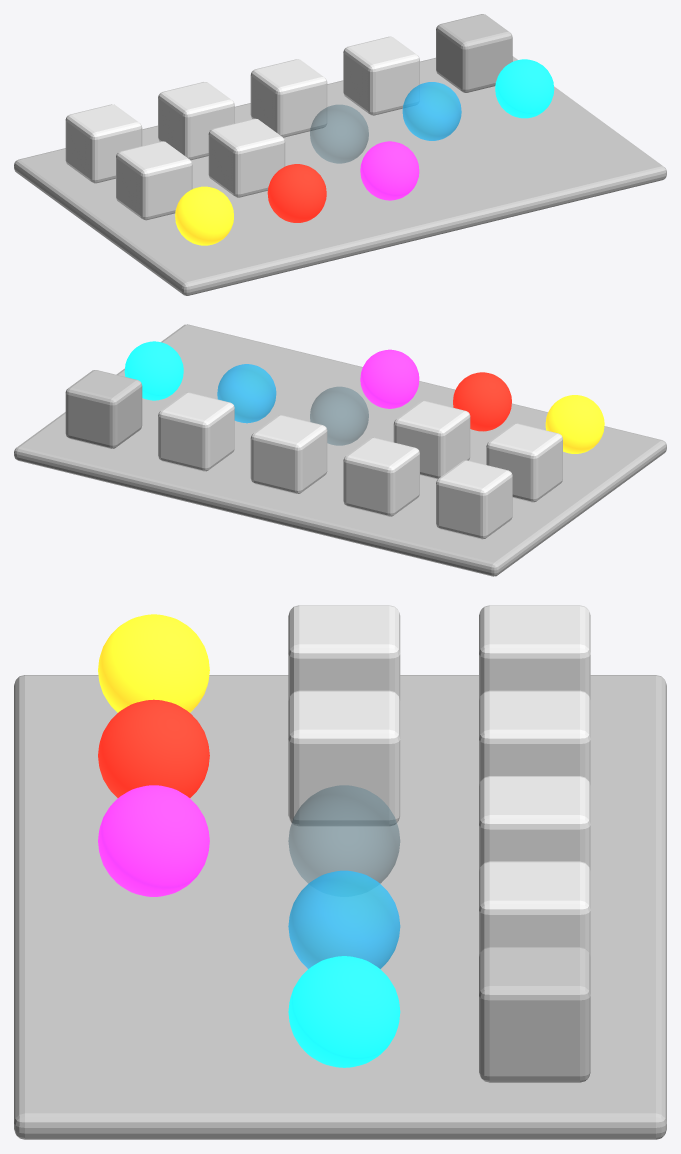
Rendered from Material_Texture_Library.glb.
3 views of the same model, one above another, from view 1: azimuth 30°, elevation 25°; view 2: azimuth 150°, elevation 25°; view 3: azimuth 270°, elevation 25° (orthographic). The views are drawn at different scales.
Parts seen in each view (by area): view 1: Material_Library_Display, SWATCH_MAT_Rusted_Metal, SWATCH_MAT_Metal, SWATCH_MAT_Plant, SWATCH_MAT_Floor, SWATCH_MAT_Moss, SWATCH_MAT_Stone, SWATCH_MAT_Ancient_Stone, SWATCH_MAT_Emissive_Purple, SWATCH_MAT_Emissive_Yellow, SWATCH_MAT_Water, SWATCH_MAT_Emissive_Cyan (+2 smaller); view 2: Material_Library_Display, SWATCH_MAT_Floor, SWATCH_MAT_Metal, SWATCH_MAT_Ancient_Stone, SWATCH_MAT_Rusted_Metal, SWATCH_MAT_Stone, SWATCH_MAT_Moss, SWATCH_MAT_Plant, SWATCH_MAT_Emissive_Purple, SWATCH_MAT_Emissive_Cyan, SWATCH_MAT_Emissive_Red, SWATCH_MAT_Water (+2 smaller); view 3: Material_Library_Display, SWATCH_MAT_Plant, SWATCH_MAT_Floor, SWATCH_MAT_Emissive_Cyan, SWATCH_MAT_Emissive_Purple, SWATCH_MAT_Moss, SWATCH_MAT_Ancient_Stone, SWATCH_MAT_Rusted_Metal, SWATCH_MAT_Stone, SWATCH_MAT_Metal, SWATCH_MAT_Water, SWATCH_MAT_Emissive_Red (+2 smaller).
Boxes of the visible parts, x1,y1,x2,y2 form: Material_Library_Display: [14, 56, 666, 295]; SWATCH_MAT_Rusted_Metal: [343, 36, 419, 115]; SWATCH_MAT_Metal: [250, 59, 327, 137]; SWATCH_MAT_Plant: [208, 118, 285, 197]; SWATCH_MAT_Floor: [436, 14, 512, 92]; SWATCH_MAT_Moss: [116, 141, 192, 220]; SWATCH_MAT_Stone: [65, 104, 142, 183]; SWATCH_MAT_Ancient_Stone: [158, 82, 234, 160]; SWATCH_MAT_Emissive_Purple: [360, 141, 419, 200]; SWATCH_MAT_Emissive_Yellow: [175, 186, 233, 245]; SWATCH_MAT_Water: [402, 82, 461, 140]; SWATCH_MAT_Emissive_Cyan: [495, 59, 554, 118]; Material_Library_Display: [14, 324, 666, 576]; SWATCH_MAT_Floor: [65, 370, 142, 448]; SWATCH_MAT_Metal: [250, 415, 327, 493]; SWATCH_MAT_Ancient_Stone: [343, 437, 419, 516]; SWATCH_MAT_Rusted_Metal: [158, 392, 234, 471]; SWATCH_MAT_Stone: [436, 460, 512, 539]; SWATCH_MAT_Moss: [486, 423, 562, 502]; SWATCH_MAT_Plant: [393, 401, 470, 479]; SWATCH_MAT_Emissive_Purple: [360, 349, 419, 408]; SWATCH_MAT_Emissive_Cyan: [124, 341, 183, 400]; SWATCH_MAT_Emissive_Red: [453, 372, 511, 431]; SWATCH_MAT_Water: [217, 364, 276, 423]; Material_Library_Display: [14, 675, 666, 1139]; SWATCH_MAT_Plant: [288, 690, 400, 826]; SWATCH_MAT_Floor: [479, 947, 590, 1082]; SWATCH_MAT_Emissive_Cyan: [288, 956, 400, 1067]; SWATCH_MAT_Emissive_Purple: [98, 785, 209, 896]; SWATCH_MAT_Moss: [288, 605, 400, 700]; SWATCH_MAT_Ancient_Stone: [479, 690, 590, 785]; SWATCH_MAT_Rusted_Metal: [479, 861, 590, 956]; SWATCH_MAT_Stone: [479, 605, 590, 699]; SWATCH_MAT_Metal: [479, 776, 590, 870]; SWATCH_MAT_Water: [288, 870, 400, 968]; SWATCH_MAT_Emissive_Red: [98, 699, 209, 797].
Size of the model in its own units: 13.6 by 1.84 by 8.4.
